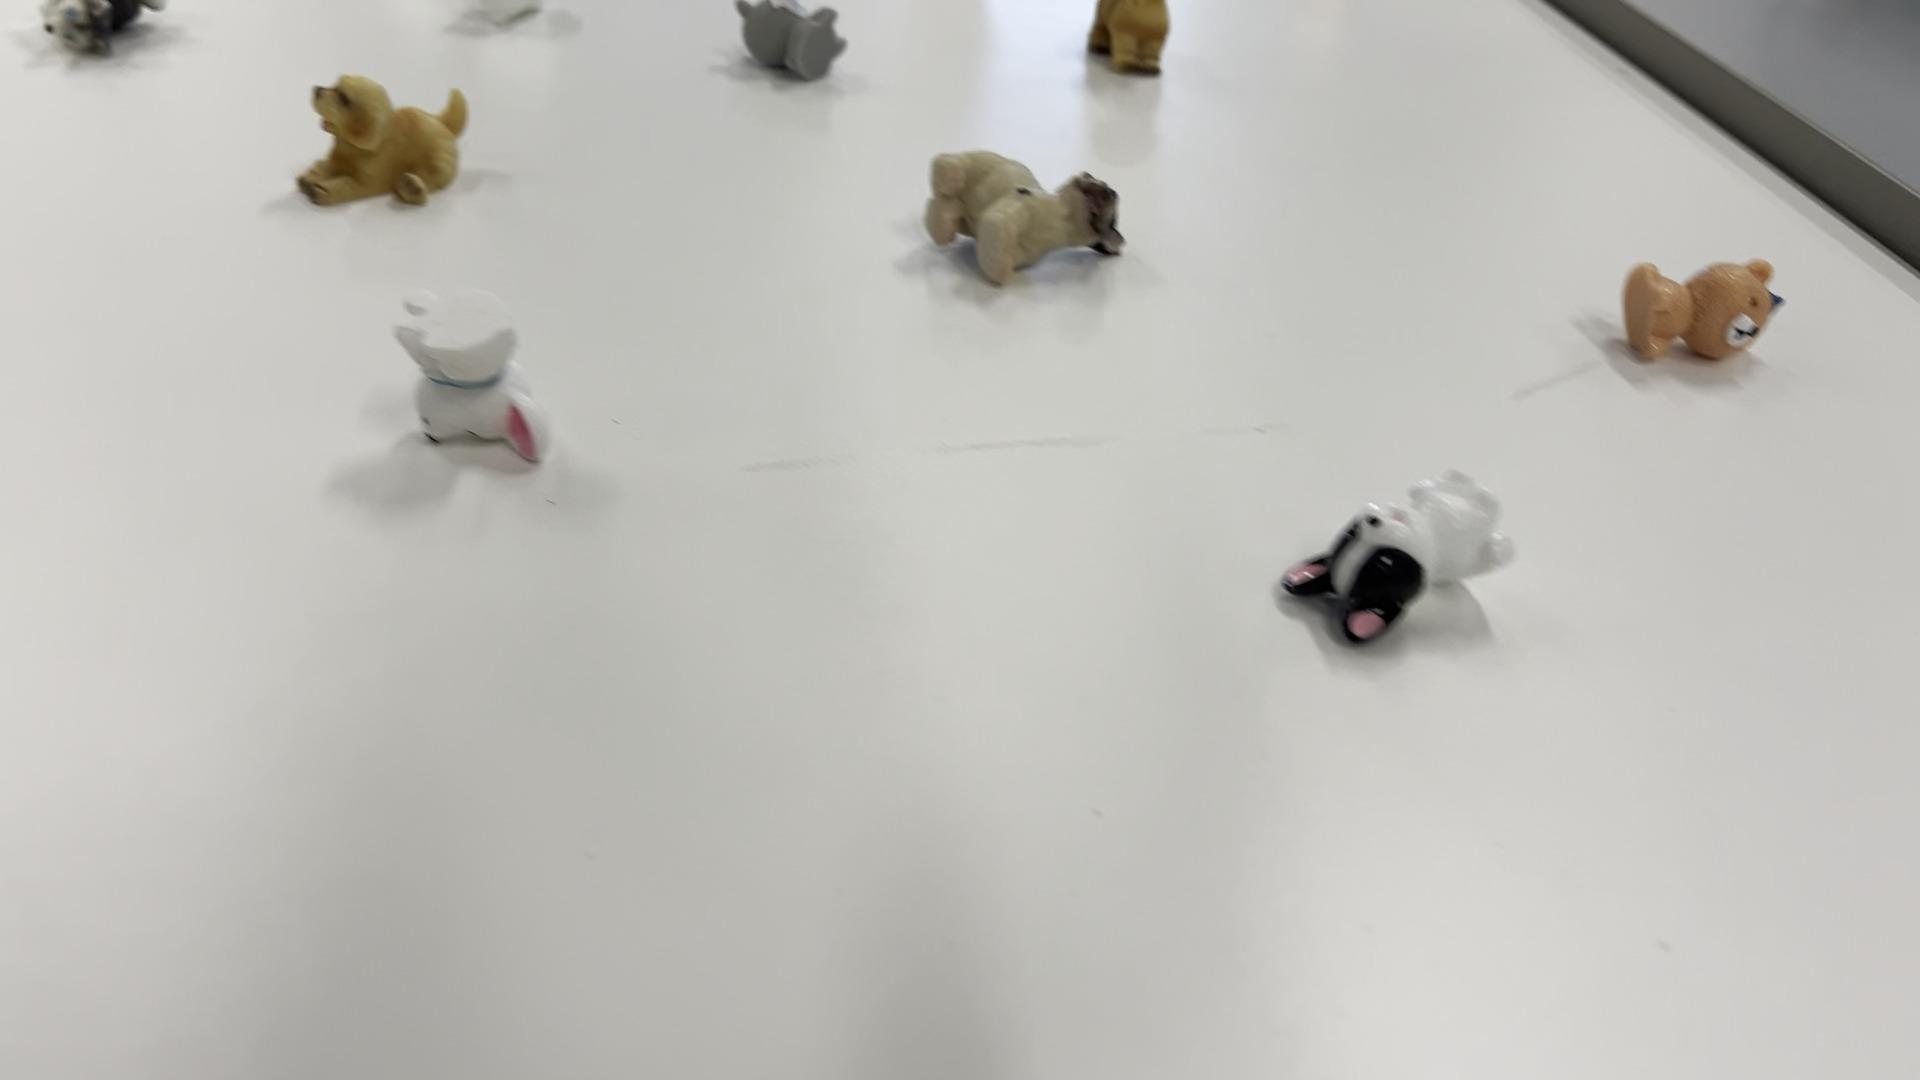pet: (1263, 450, 1523, 650), (390, 276, 563, 477), (920, 135, 1141, 293), (294, 61, 480, 228), (1618, 243, 1792, 371), (733, 0, 861, 95)
